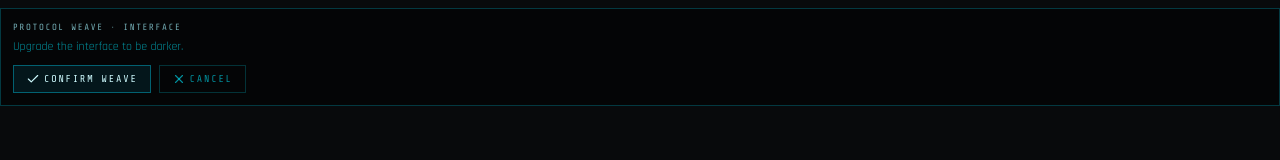
Test: ProtocolUpgradeConfirmCard › cancel never confirms
The image size is (1280, 160).
Click the button "Cancel" at (202,78), box [159,64,246,92]
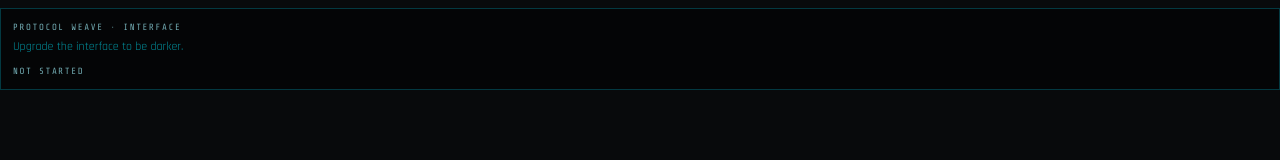
Expected: the text "Not started" is shown, [13,64,84,76]
